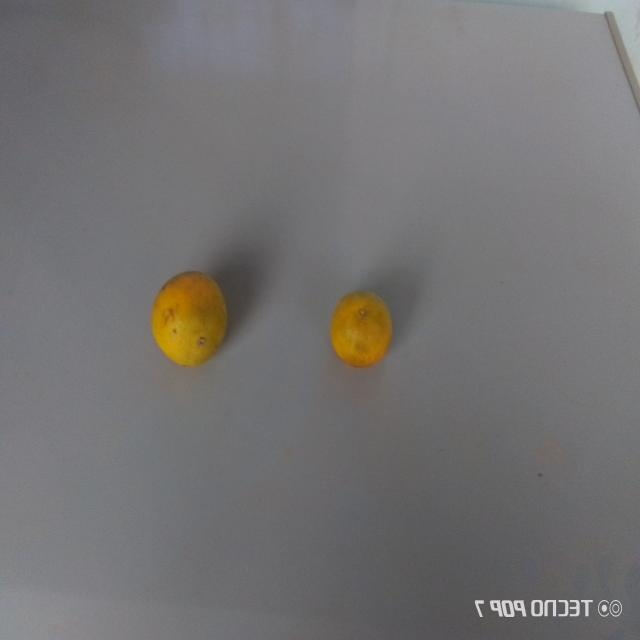agrume: (144, 259, 232, 373), (326, 282, 398, 374)
